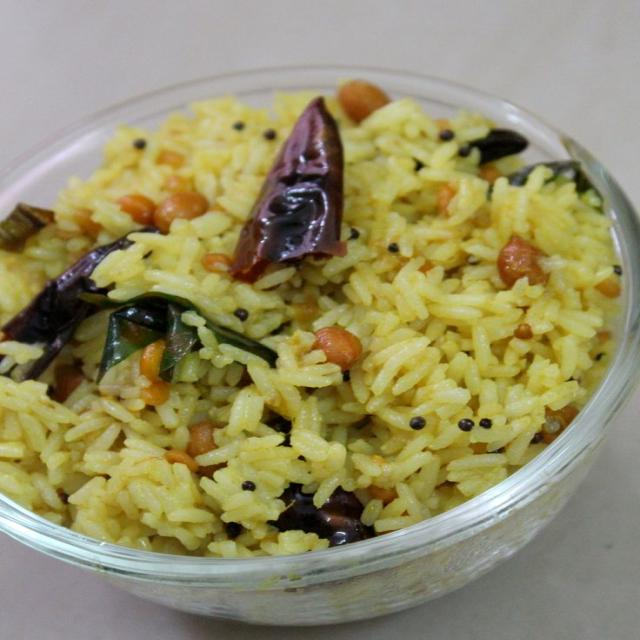puliyogare: (2, 66, 633, 584)
